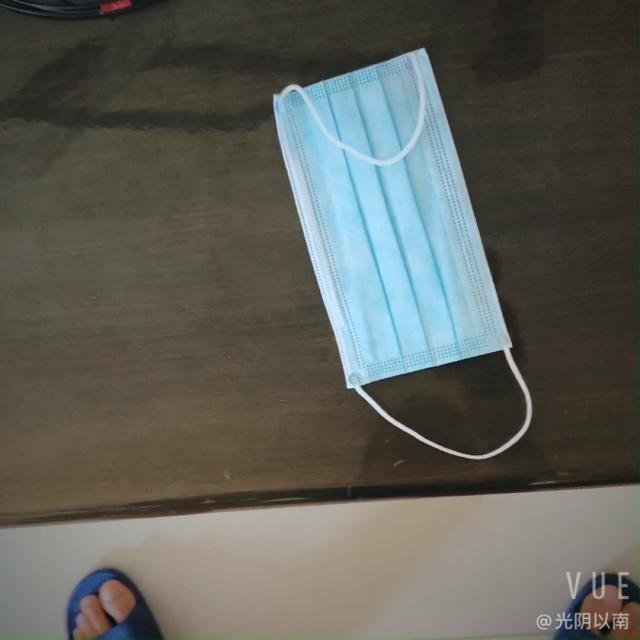non-organic waste: (275, 52, 491, 408)
